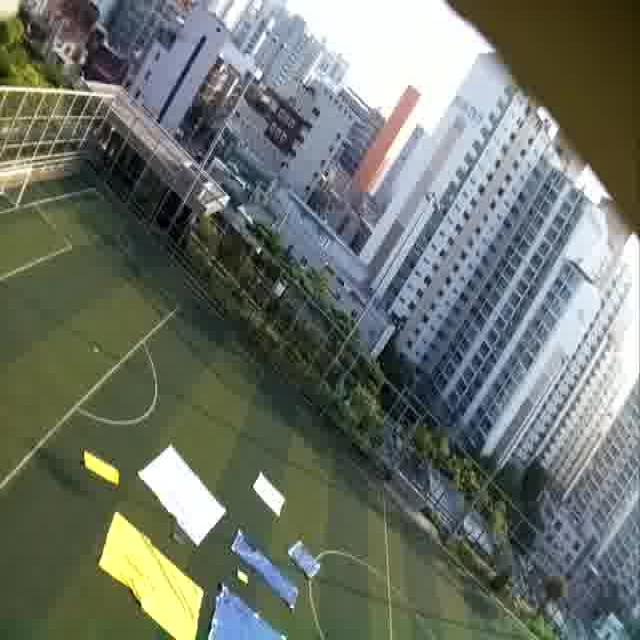danger: (210, 597, 274, 640), (289, 540, 324, 579), (232, 542, 262, 565)
safety: (154, 455, 222, 525), (251, 466, 291, 523)
warning: (113, 546, 188, 614), (86, 457, 121, 490)
